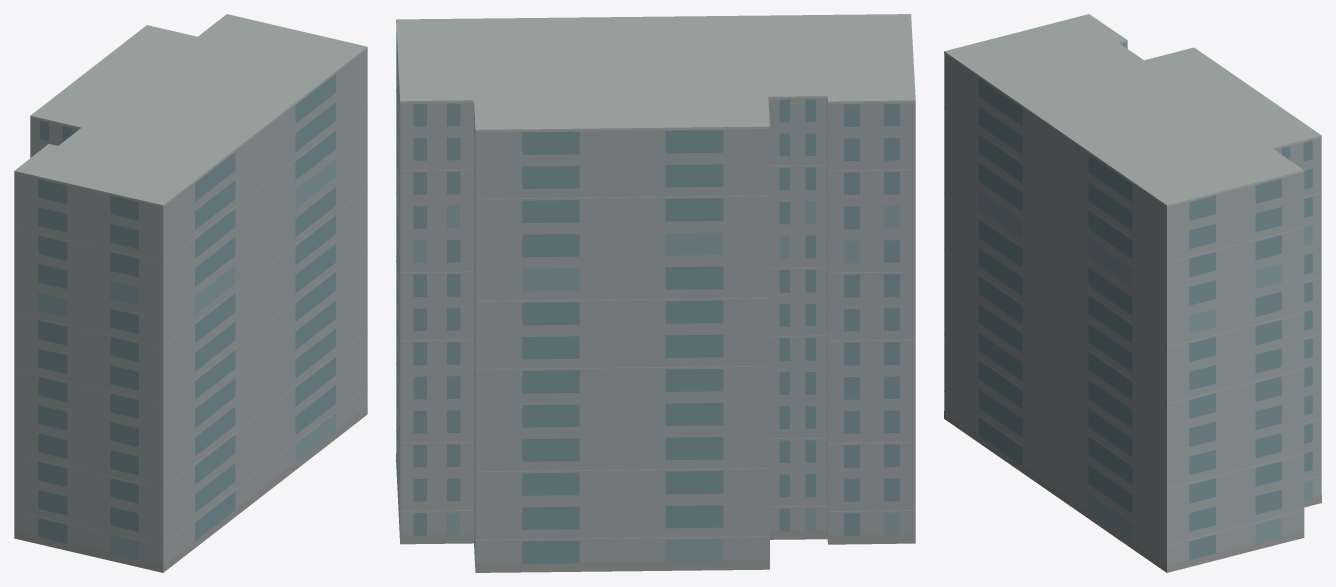
Rendered from survey-upis-32588431.glb.
The picture shows the model from 3 angles, left to right: view 1: azimuth 30°, elevation 25°; view 2: azimuth 150°, elevation 25°; view 3: azimuth 270°, elevation 25°; orthographic projection. The views are drawn at different scales.
Visible parts, largest first — view 1: survey-upis-32588431.tmp; view 2: survey-upis-32588431.tmp; view 3: survey-upis-32588431.tmp.
Part boxes in pixels (x1,y1,x2,y2): survey-upis-32588431.tmp: (14,14,367,572); survey-upis-32588431.tmp: (396,14,915,572); survey-upis-32588431.tmp: (944,14,1321,572).
Bounding box in the file's own units: 52.61 × 47.1 × 43.88.
